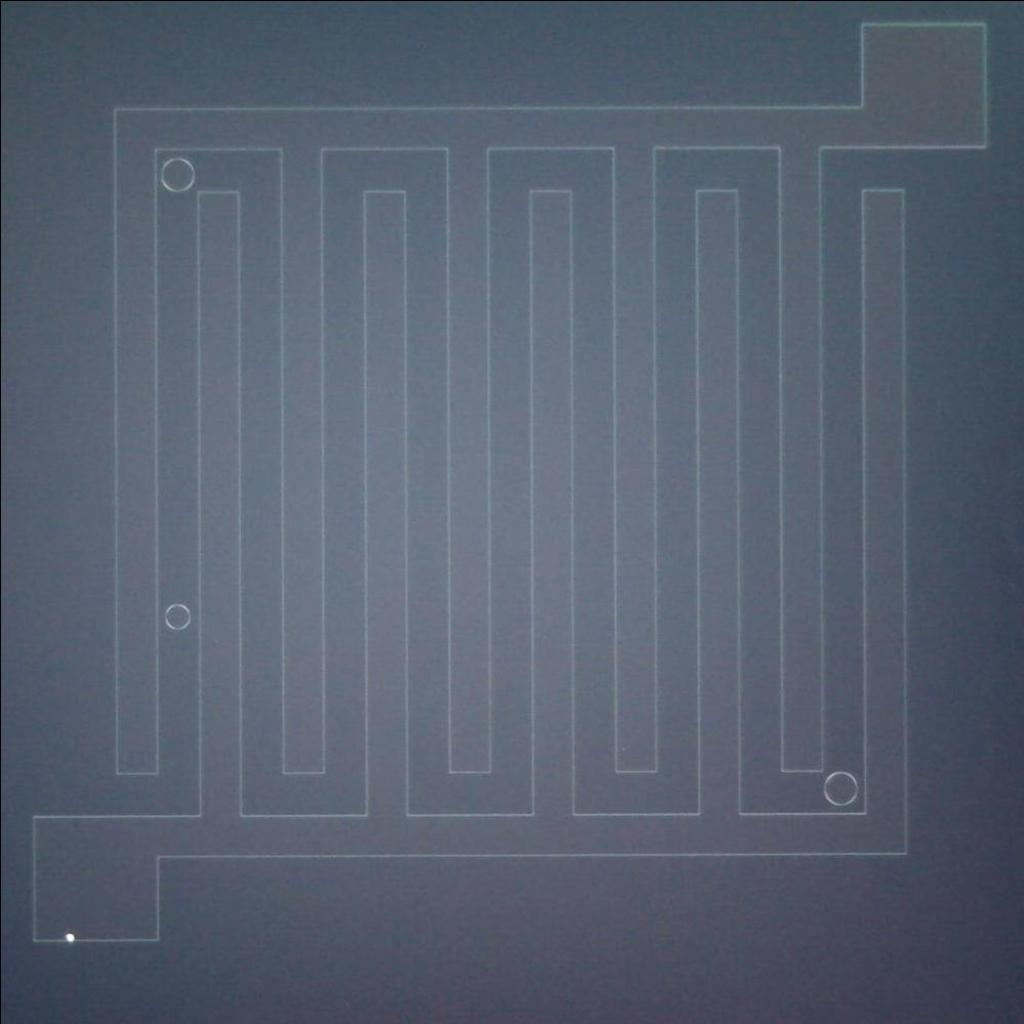circle: (152, 152, 198, 196), (820, 766, 864, 810), (156, 602, 197, 632)
spot: (58, 928, 79, 947)
